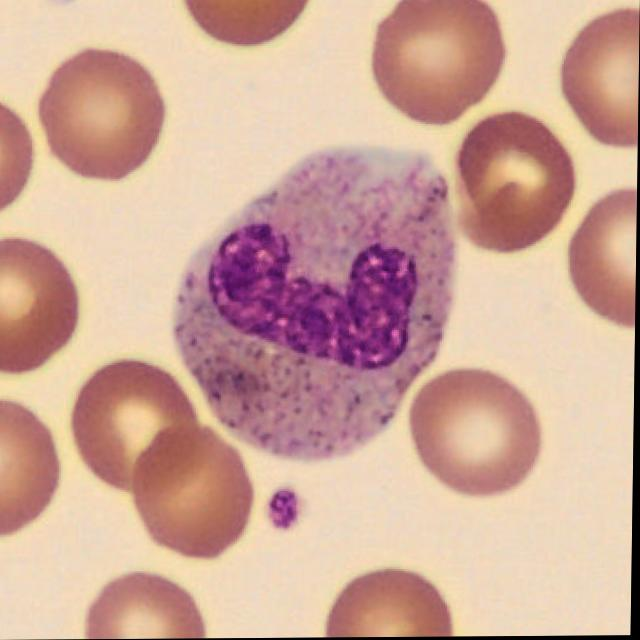Neutrofilo segmentado: (174, 145, 458, 460)
